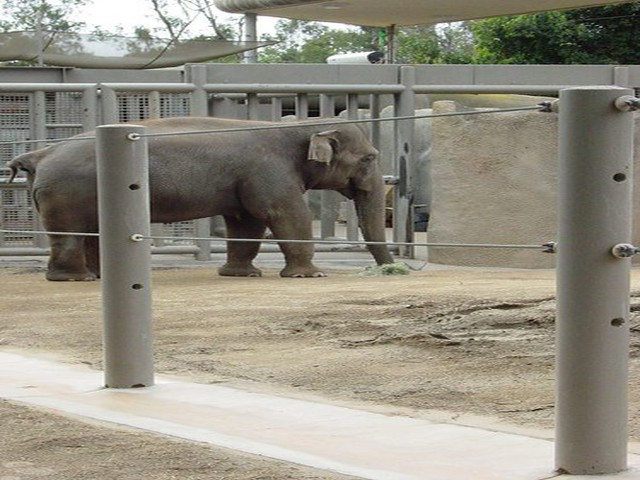Elephant: (4, 111, 401, 278)
